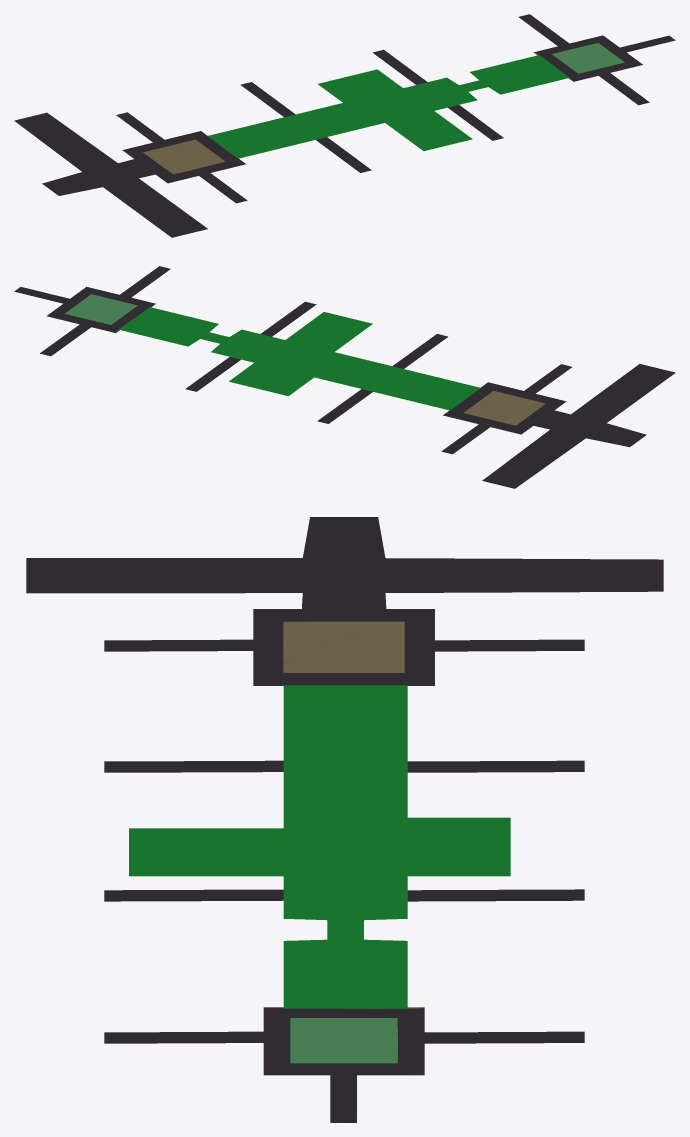
The model's file is JlnKeraton.fbx.
The picture shows the model from 3 angles, top to bottom: view 1: azimuth 30°, elevation 25°; view 2: azimuth 150°, elevation 25°; view 3: azimuth 270°, elevation 25°; orthographic projection. The views are drawn at different scales.
Visible parts, largest first — view 1: Denah Jalan.001, 7-Halaman Keraton; view 2: Denah Jalan.001, 7-Halaman Keraton; view 3: Denah Jalan.001, 7-Halaman Keraton.
Boxes of the visible parts, x1,y1,x2,y2 form: Denah Jalan.001: [14, 14, 675, 237]; 7-Halaman Keraton: [207, 55, 569, 158]; Denah Jalan.001: [14, 266, 675, 488]; 7-Halaman Keraton: [119, 307, 480, 410]; Denah Jalan.001: [26, 517, 663, 1122]; 7-Halaman Keraton: [129, 685, 510, 1008].
Size of the model in its own units: 15808 by 17.61 by 7024.
2 materials, 1 textured.
